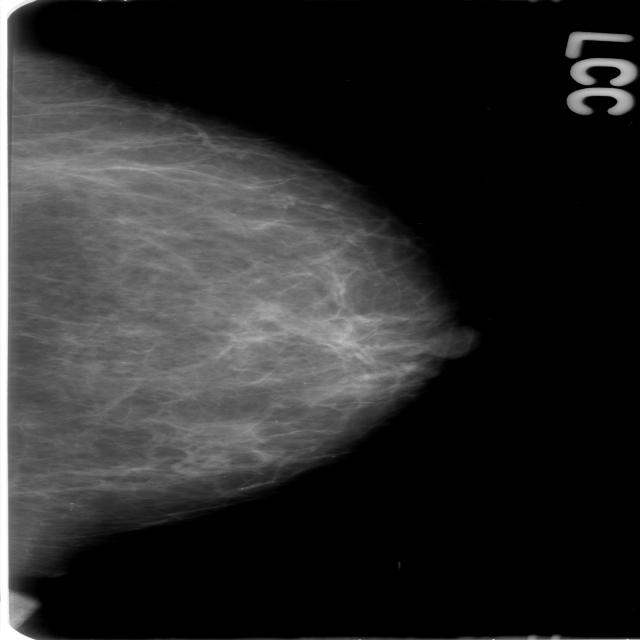normal: (0, 47, 454, 553)
